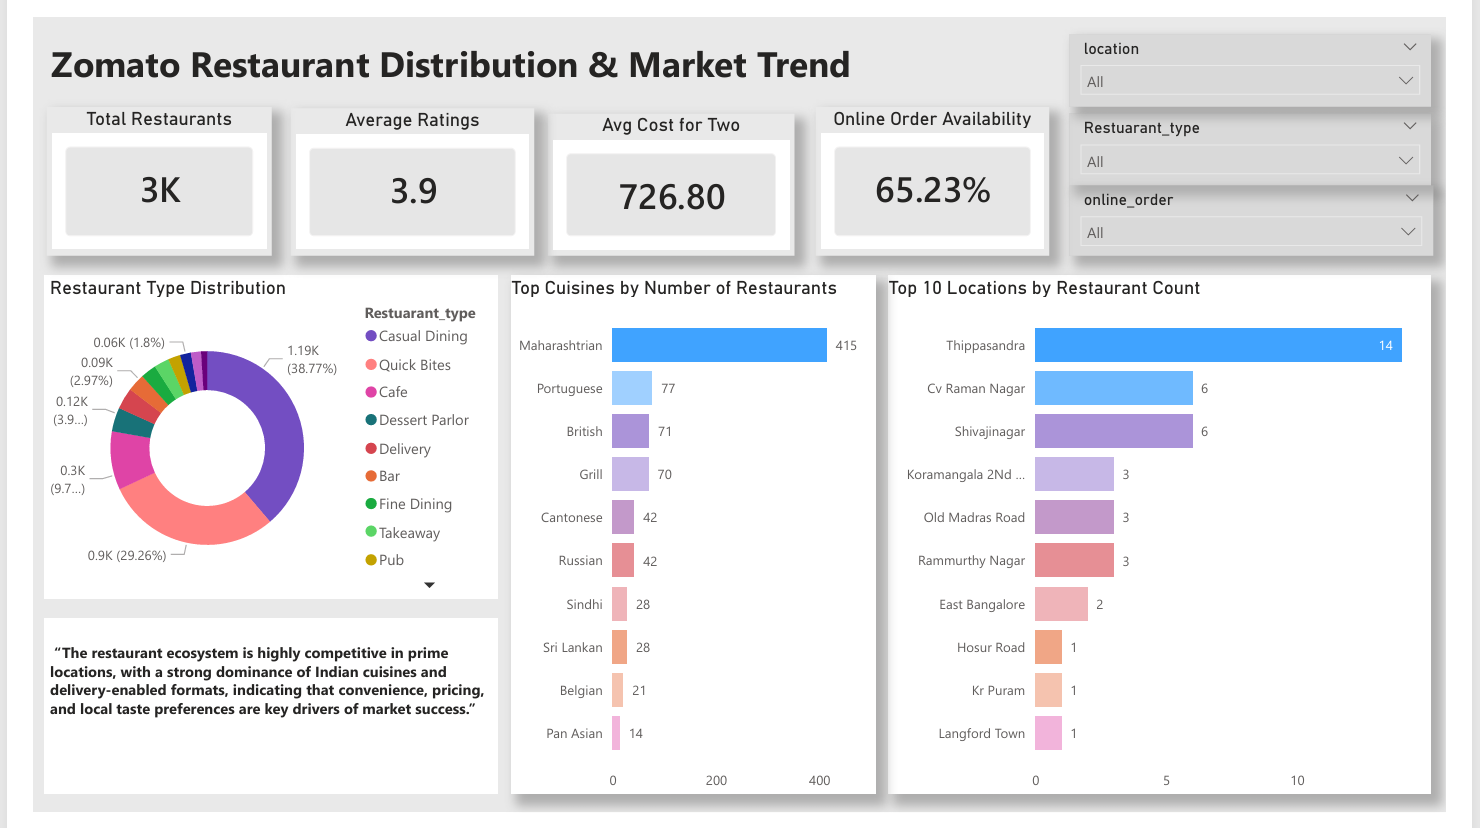

The dashboard page shown, as its layout file describes it:
{"tool":"powerbi","page":{"name":"Restaurant Market & Supply Analysis","canvas":[1280,720],"ordinal":3},"visuals":[{"type":"clusteredBarChart","title":"Top 10 Locations by Restaurant Count","fields":{"Category":["Zomato_Restaurants_Clean.location"],"Y":["Count(Zomato_Restaurants_Clean.name)"]},"box":[774.6,234.3,492.5,470.1],"z":0},{"type":"clusteredBarChart","title":"Top Cuisines by Number of Restaurants","fields":{"Category":["Zomato_Restaurants.cuisine"],"Y":["CountNonNull(Zomato_Restaurants.name)"]},"box":[432.8,234.3,329.9,470.1],"z":2},{"type":"slicer","fields":{"Values":["Zomato_Restaurants_Clean.location"]},"box":[938.8,14.9,328.4,65.7],"z":3},{"type":"slicer","fields":{"Values":["Zomato_Restaurants_Clean.Restuarant_type"]},"box":[938.8,86.6,328.4,65.7],"z":4},{"type":"slicer","fields":{"Values":["Zomato_Restaurants_Clean.online_order"]},"box":[938.8,152.2,329.9,64.2],"z":5},{"type":"donutChart","title":"Restaurant Type Distribution","fields":{"Y":["CountNonNull(Zomato_Restaurants_Clean.name)"],"Category":["Zomato_Restaurants_Clean.Restuarant_type"]},"box":[10.4,234.3,410.4,292.5],"z":6},{"type":"cardVisual","title":"Total Restaurants","fields":{"Data":["KPI_Measures.Total Restaurants"]},"box":[11.9,80.6,204.5,135.8],"z":8},{"type":"cardVisual","title":"Average Ratings","fields":{"Data":["KPI_Measures.Avg Rating"]},"box":[232.8,82.1,220.9,134.3],"z":9},{"type":"cardVisual","title":"Avg Cost for Two","fields":{"Data":["KPI_Measures.Avg Cost"]},"box":[465.7,86.6,223.9,129.9],"z":10},{"type":"cardVisual","title":"Online Order Availability","fields":{"Data":["KPI_Measures.Online Order %"]},"box":[709,80.6,211.9,135.8],"z":11},{"type":"textbox","box":[11.5,14.3,909,83.2],"z":12},{"type":"textbox","box":[10,544.4,411.1,158.9],"z":13}]}

Visuals, with their boxes in screenshot pixels (x1, y1, x2, y2), scaled from the page's 1280x720 canvas onto the 1480x828 screenshot:
"Top 10 Locations by Restaurant Count" clusteredBarChart: box=[896, 269, 1465, 810]
"Top Cuisines by Number of Restaurants" clusteredBarChart: box=[500, 269, 882, 810]
slicer - Zomato_Restaurants_Clean.location: box=[1085, 17, 1465, 93]
slicer - Zomato_Restaurants_Clean.Restuarant_type: box=[1085, 100, 1465, 175]
slicer - Zomato_Restaurants_Clean.online_order: box=[1085, 175, 1467, 249]
"Restaurant Type Distribution" donutChart: box=[12, 269, 487, 606]
"Total Restaurants" cardVisual: box=[14, 93, 250, 249]
"Average Ratings" cardVisual: box=[269, 94, 525, 249]
"Avg Cost for Two" cardVisual: box=[538, 100, 797, 249]
"Online Order Availability" cardVisual: box=[820, 93, 1065, 249]
textbox: box=[13, 16, 1064, 112]
textbox: box=[12, 626, 487, 809]
